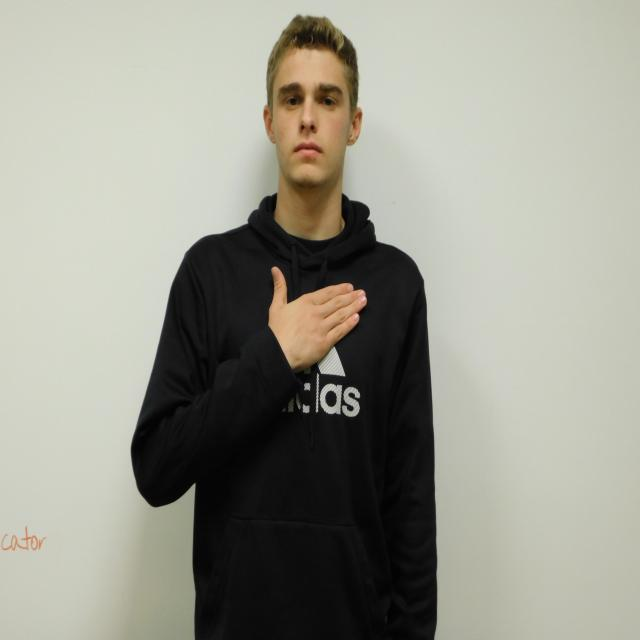my: (269, 266, 367, 370)
